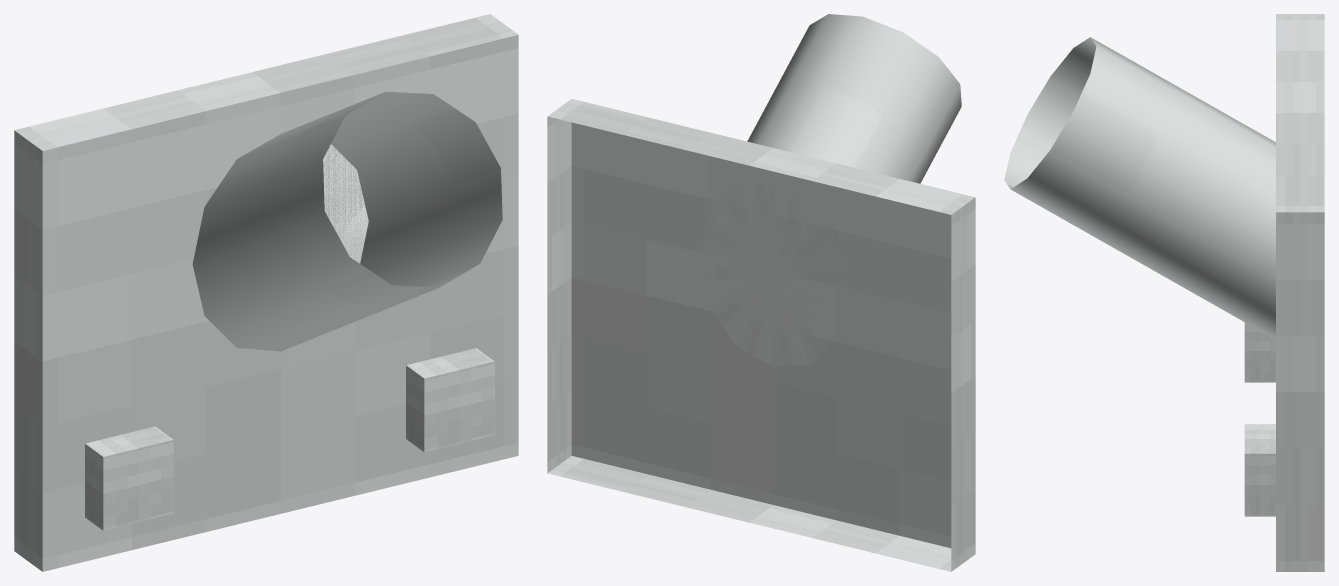
The model's file is luminairearm_truss12ftdouble_c10_wall.obj.
3 renders of one model, left to right at view 1: azimuth 30°, elevation 25°; view 2: azimuth 150°, elevation 25°; view 3: azimuth 270°, elevation 25°, orthographic. The views are drawn at different scales.
Parts seen in each view (by area): view 1: luminairearm_truss12ftdouble_c10_wall; view 2: luminairearm_truss12ftdouble_c10_wall; view 3: luminairearm_truss12ftdouble_c10_wall.
Boxes of the visible parts, left/top/right/bottom form: luminairearm_truss12ftdouble_c10_wall: left=14, top=14, right=518, bottom=571; luminairearm_truss12ftdouble_c10_wall: left=547, top=14, right=975, bottom=571; luminairearm_truss12ftdouble_c10_wall: left=1004, top=14, right=1324, bottom=571.
Size of the model in its own units: 0.4222 by 0.4228 by 0.2881.
